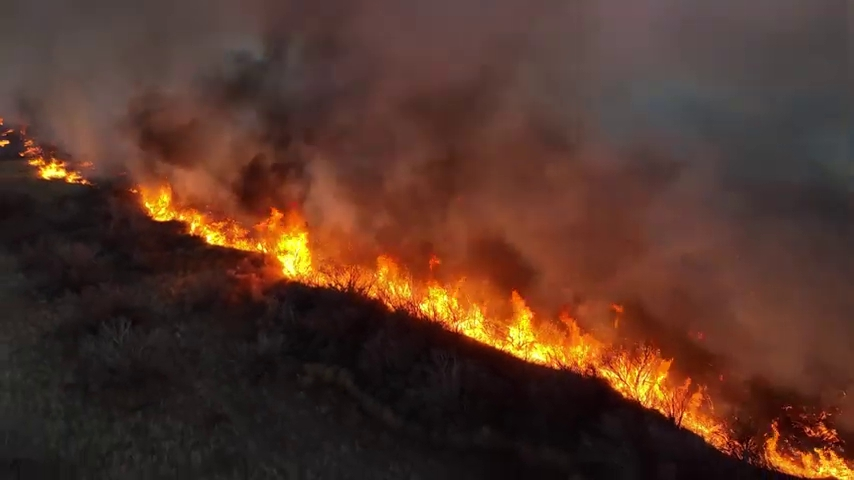forest_fire: (133, 183, 733, 453), (761, 414, 853, 477), (21, 137, 89, 182), (430, 258, 437, 266), (614, 305, 620, 314)
